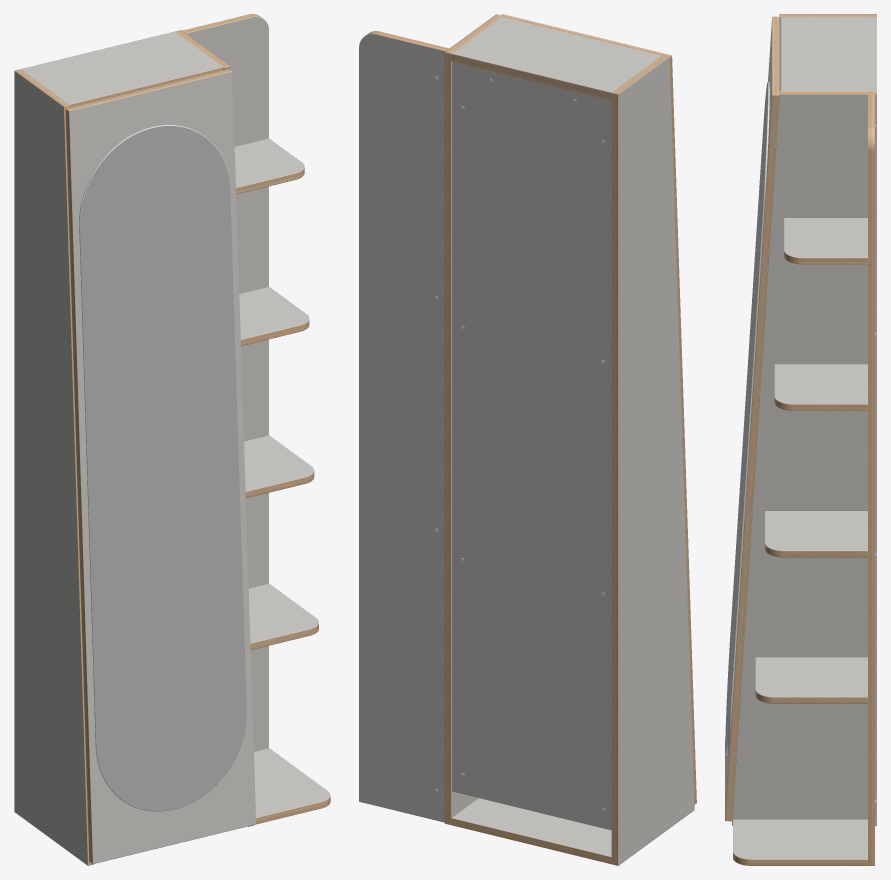
3 renders of one model, left to right at view 1: azimuth 30°, elevation 25°; view 2: azimuth 150°, elevation 25°; view 3: azimuth 270°, elevation 25°, orthographic. The views are drawn at different scales.
Visible parts, largest first — view 1: mirror47261; view 2: mirror47261; view 3: mirror47261.
Boxes of the visible parts, left/top/right/bottom form: mirror47261: left=14, top=14, right=330, bottom=865; mirror47261: left=359, top=14, right=696, bottom=865; mirror47261: left=725, top=14, right=876, bottom=865.
Size of the model in its own units: 0.6 by 1.7 by 0.32.
1 material, 1 textured.
